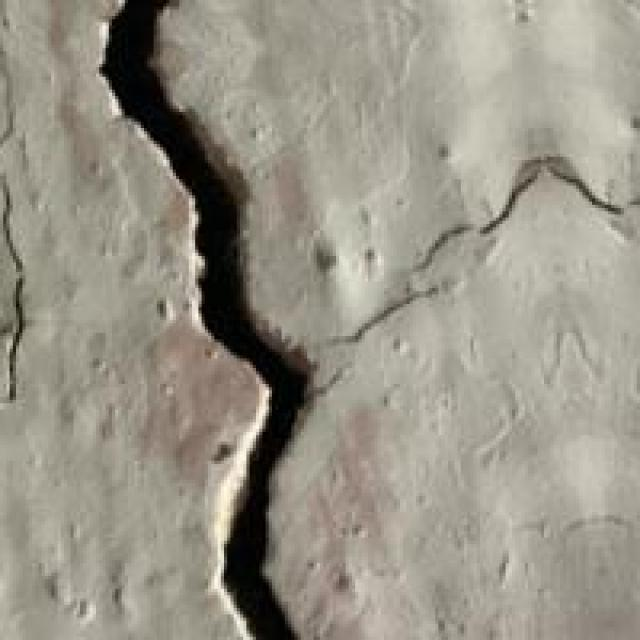crack: (67, 3, 400, 637)
